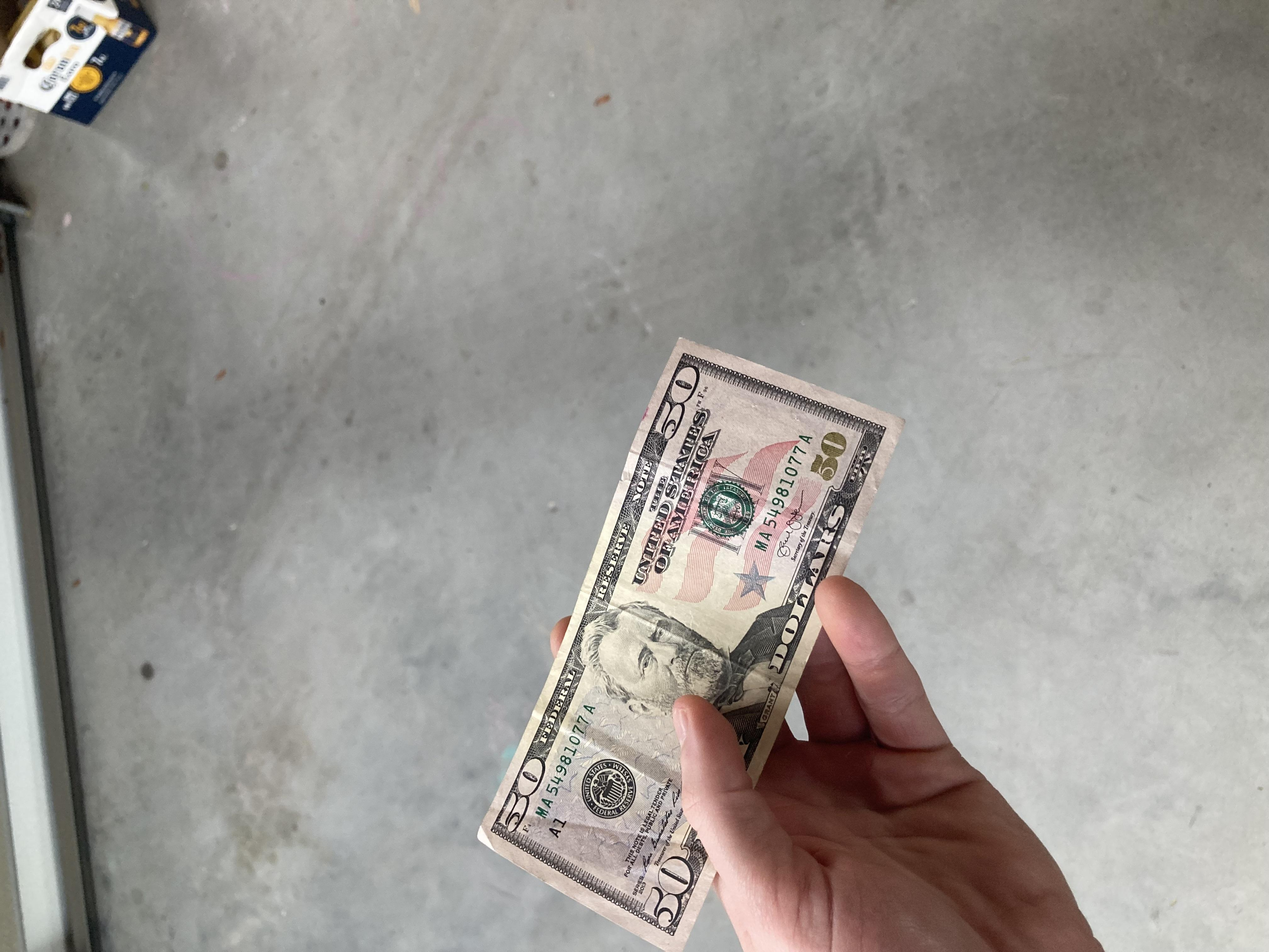fifty-front: (0, 357, 823, 683)
